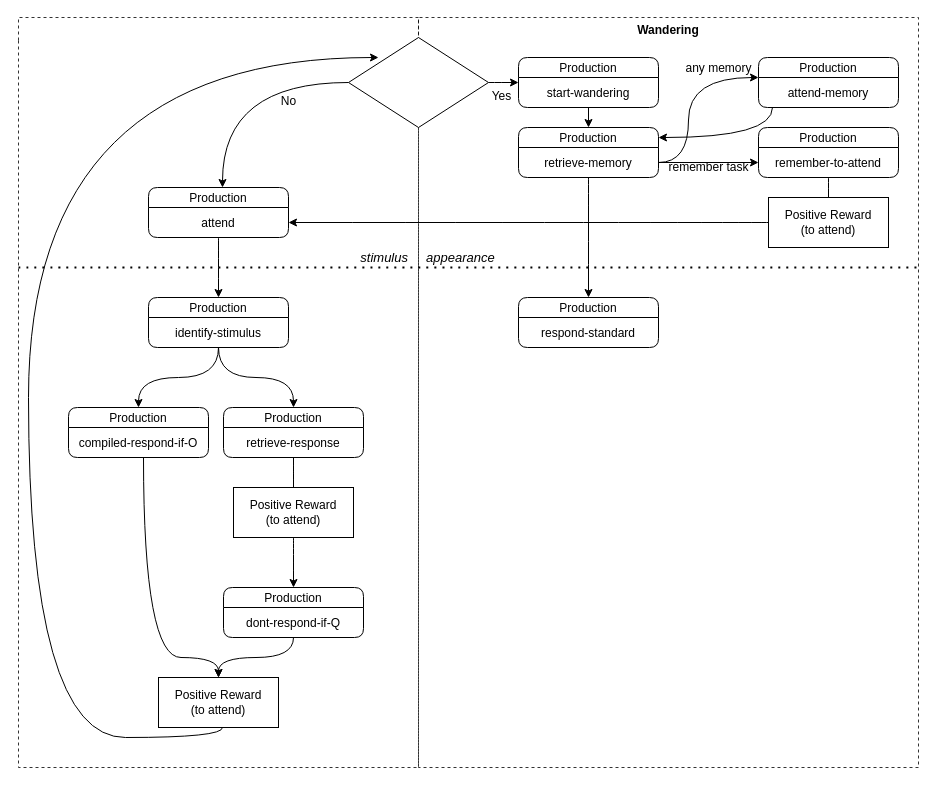
Some shapes in this 937 by 785 pixel diagram are drawn without their labels. The box of each missing label's shape, as (x1, y1, x2, y2) in pixels:
Attend utility < Wander utility: (348, 36, 488, 128)
Attending: (18, 16, 418, 768)
